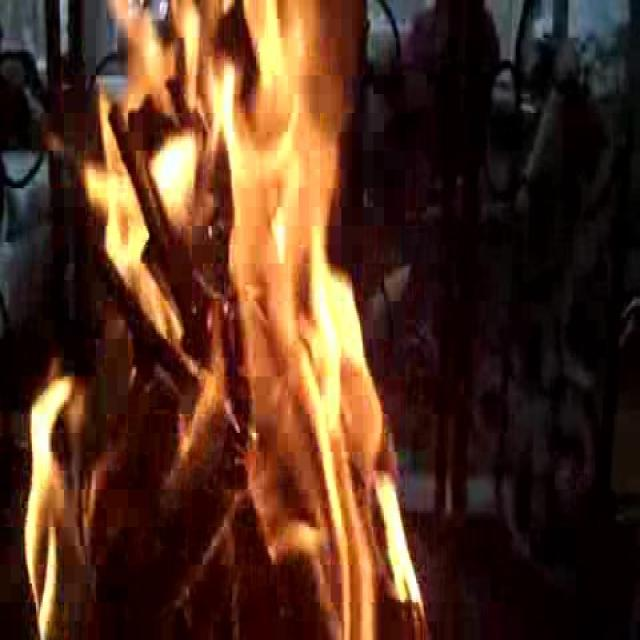fire: (64, 0, 404, 640)
